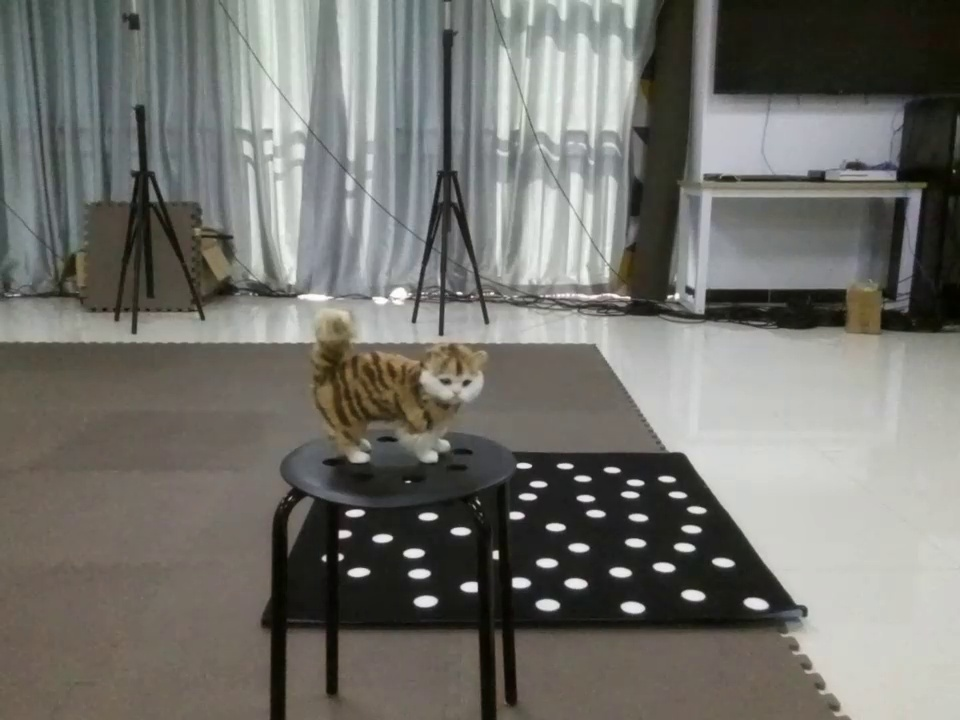cat: (283, 306, 498, 471)
